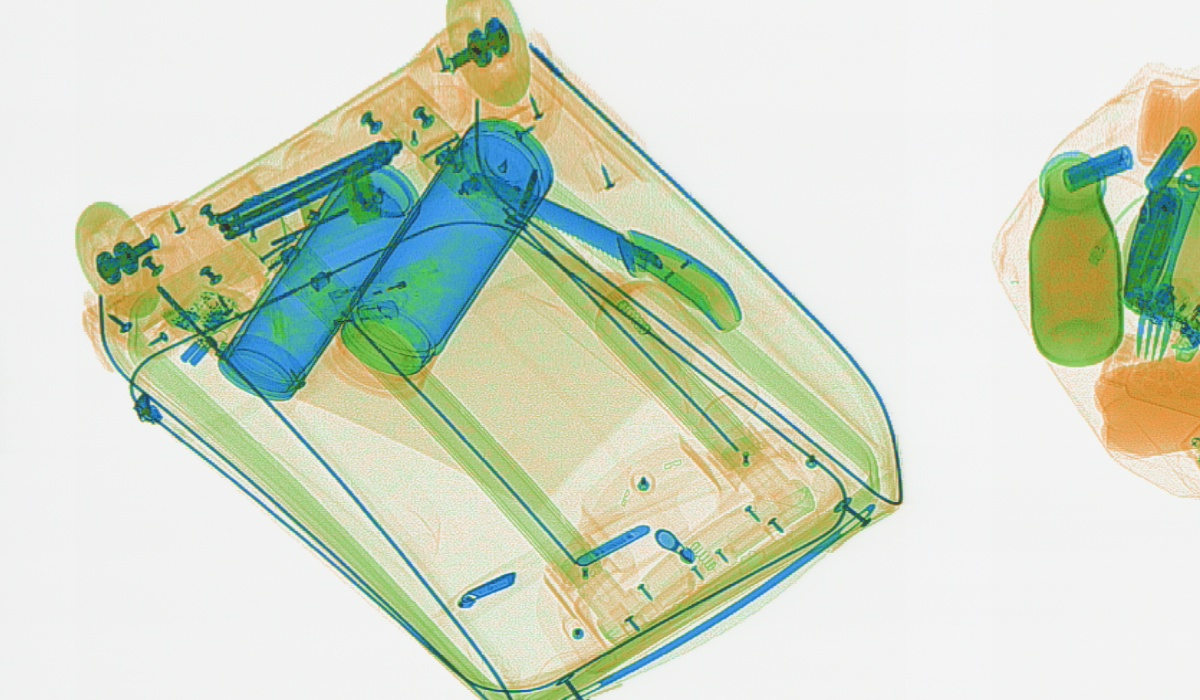knife: (216, 138, 401, 240), (1122, 184, 1182, 325)
